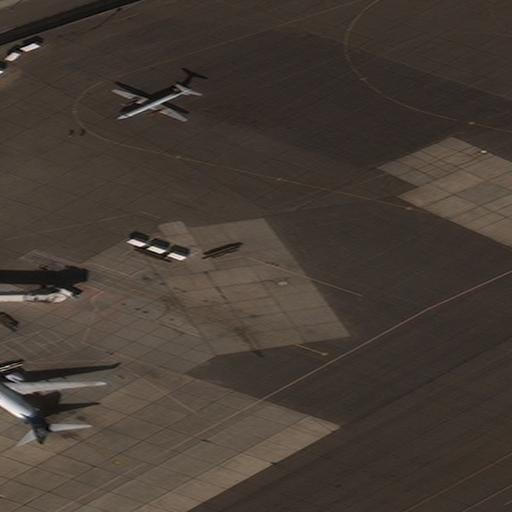Medium Civil Transport: (0, 365, 101, 443), (110, 87, 191, 122)
